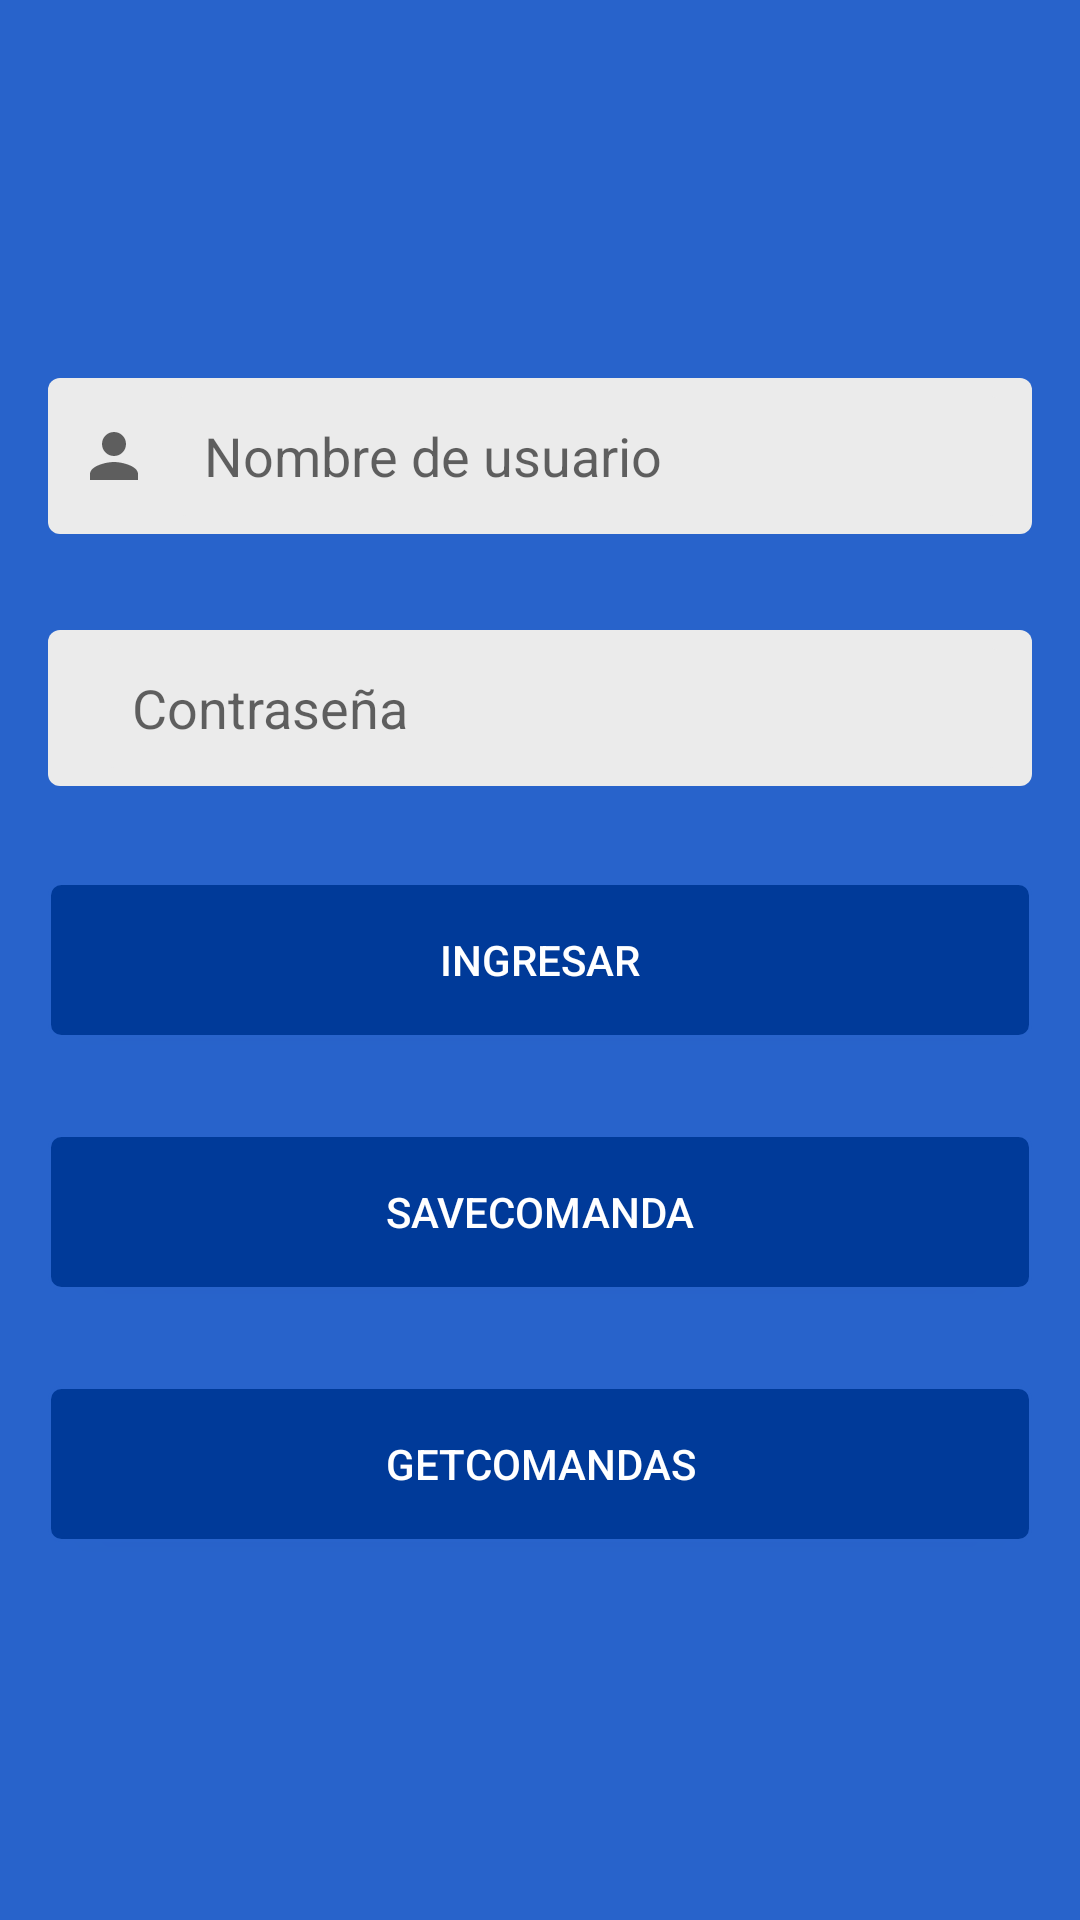

Screen size 1080x1920. Icon name, then its center in pixels as point (x, y):
person: point (114, 456)
